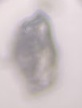microplastic: (12, 10, 59, 96)
